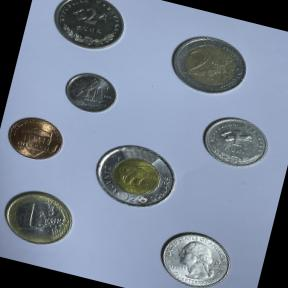coin: (82, 132, 188, 220), (162, 22, 258, 105), (0, 180, 81, 257), (150, 221, 238, 288), (42, 0, 133, 58), (0, 108, 74, 168), (55, 63, 128, 122)
